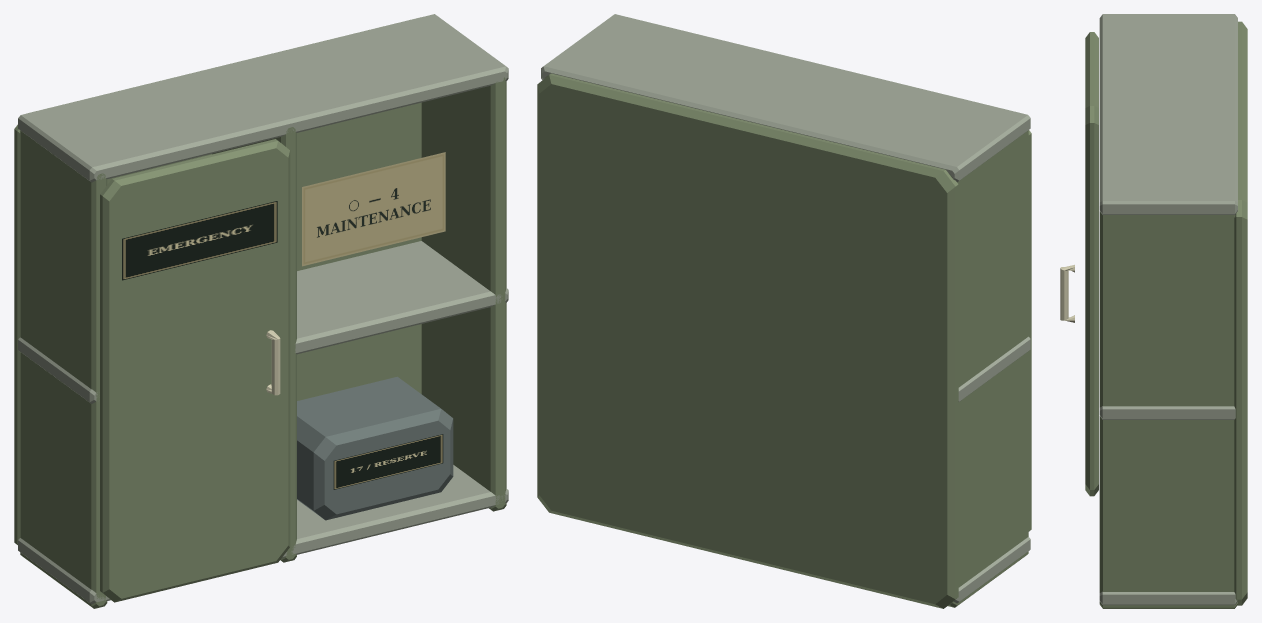
The model's file is military-storage.glb.
3 renders of one model, left to right at view 1: azimuth 30°, elevation 25°; view 2: azimuth 150°, elevation 25°; view 3: azimuth 270°, elevation 25°, orthographic. The views are drawn at different scales.
Visible parts, largest first — view 1: LockerLeaf, CabinetSide (×3), Shelf (×3), CabinetBack, SurvivalCase, Clue_maintenance, EmergencyTitle, KitMark, LockerPull; view 2: CabinetBack, Shelf (×3), CabinetSide, LockerLeaf; view 3: CabinetSide, Shelf (×3), CabinetBack, LockerLeaf, LockerPull.
Part boxes in pixels (bbox=[...]): LockerLeaf: bbox=[100, 139, 290, 602]; CabinetSide (×3): bbox=[20, 77, 506, 608]; Shelf (×3): bbox=[18, 14, 508, 604]; CabinetBack: bbox=[14, 19, 421, 544]; SurvivalCase: bbox=[297, 376, 453, 520]; Clue_maintenance: bbox=[302, 152, 445, 266]; EmergencyTitle: bbox=[122, 201, 277, 280]; KitMark: bbox=[333, 434, 443, 489]; LockerPull: bbox=[266, 330, 280, 395]; CabinetBack: bbox=[537, 73, 958, 608]; Shelf (×3): bbox=[541, 14, 1030, 603]; CabinetSide: bbox=[948, 130, 1028, 607]; LockerLeaf: bbox=[1028, 130, 1031, 531]; CabinetSide: bbox=[1099, 211, 1237, 608]; Shelf (×3): bbox=[1099, 14, 1237, 605]; CabinetBack: bbox=[1234, 21, 1247, 605]; LockerLeaf: bbox=[1085, 32, 1098, 496]; LockerPull: bbox=[1060, 265, 1074, 322].
Bounding box in the file's own units: 2.1 × 2.12 × 0.8796.
Materials: 8 (4 with a texture image).
